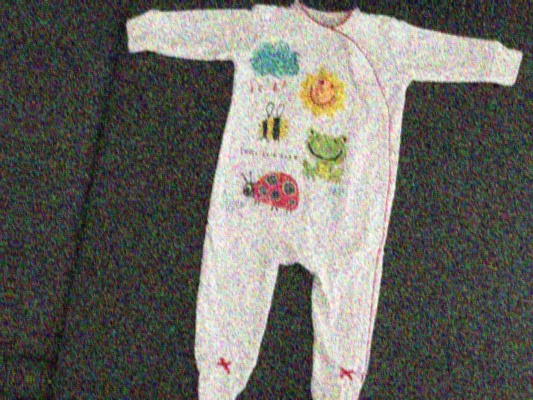Body: (69, 0, 533, 400), (17, 387, 486, 400), (122, 0, 533, 7)
